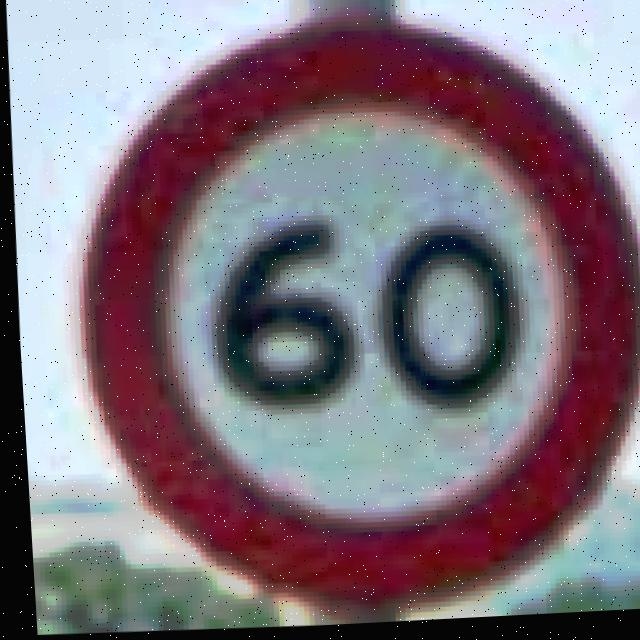max60: (51, 0, 640, 633)
